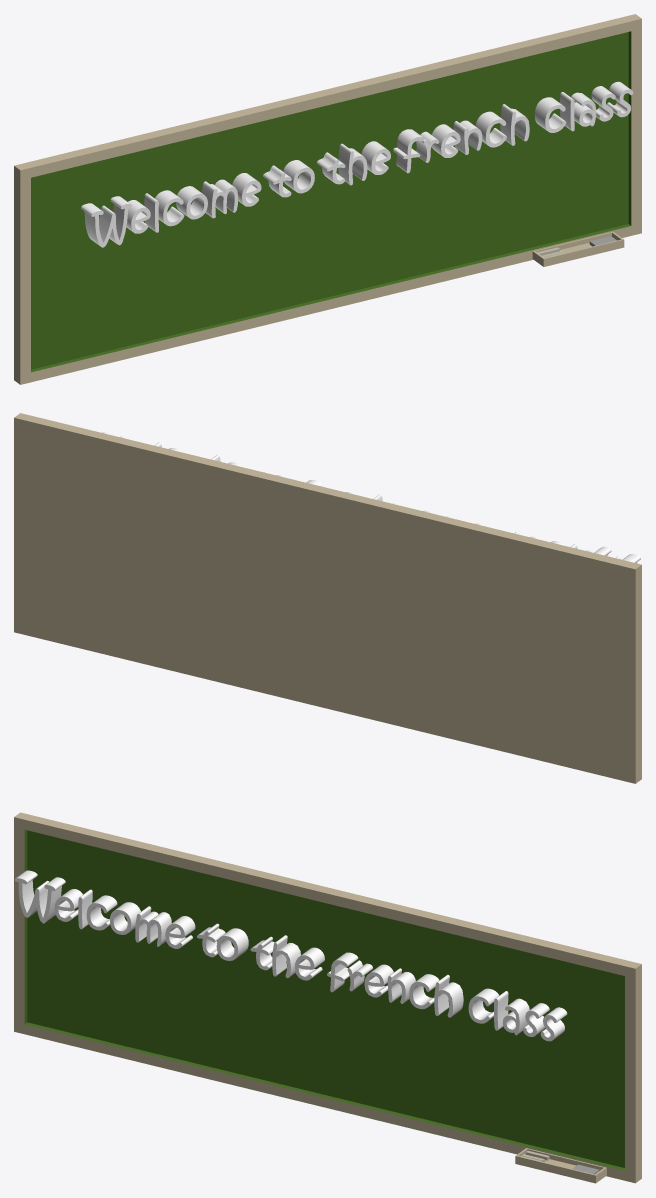
The model's file is board.fbx.
3 renders of one model, top to bottom at view 1: azimuth 30°, elevation 25°; view 2: azimuth 150°, elevation 25°; view 3: azimuth 330°, elevation 25°, orthographic.
Visible parts, largest first — view 1: node_id9 (×2), node_id47; view 2: node_id9, node_id47; view 3: node_id9 (×2), node_id47.
Boxes of the visible parts, x1,y1,x2,y2 form: node_id9 (×2): [14, 14, 641, 384]; node_id47: [81, 81, 633, 247]; node_id9: [14, 413, 641, 783]; node_id47: [102, 432, 640, 563]; node_id9 (×2): [14, 812, 641, 1183]; node_id47: [15, 870, 567, 1041].
Size of the model in its own units: 0.512 by 0.1689 by 0.0593.
